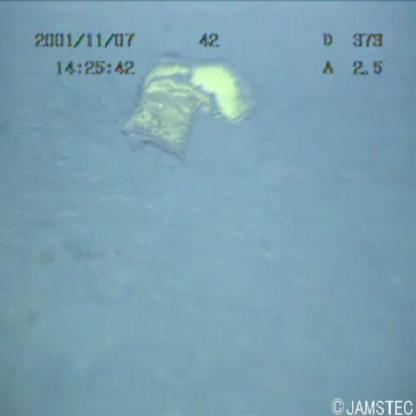Rác: (108, 48, 268, 174)
